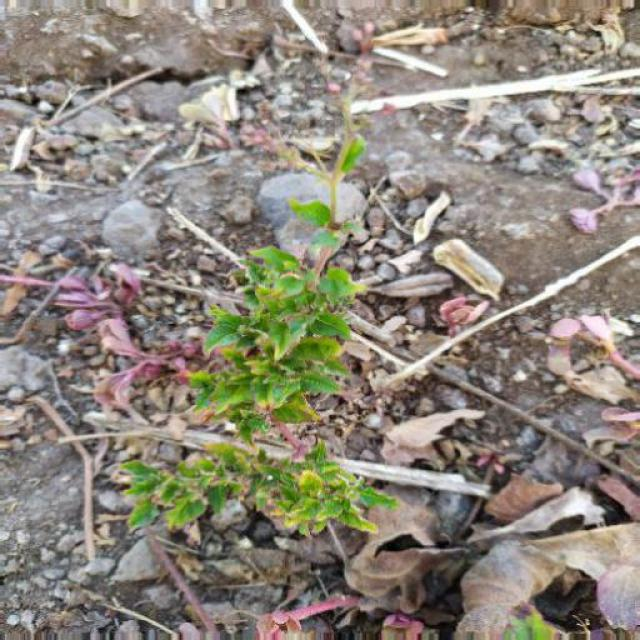weed: (114, 124, 441, 545)
